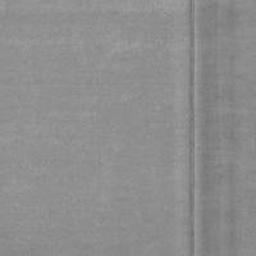Welding line: (188, 0, 196, 256)
